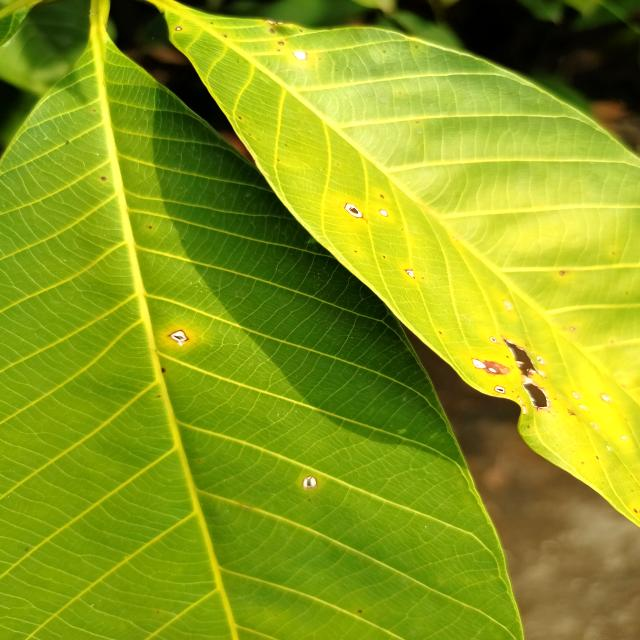Colletotrichum: (344, 203, 363, 218), (168, 330, 189, 342), (302, 476, 317, 488), (471, 358, 486, 368), (494, 385, 506, 394), (405, 269, 415, 278), (378, 209, 388, 217), (489, 336, 497, 344), (488, 367, 497, 373), (175, 26, 182, 31), (278, 41, 284, 46), (102, 177, 106, 181), (380, 195, 384, 198), (596, 456, 599, 459), (149, 226, 152, 229)
